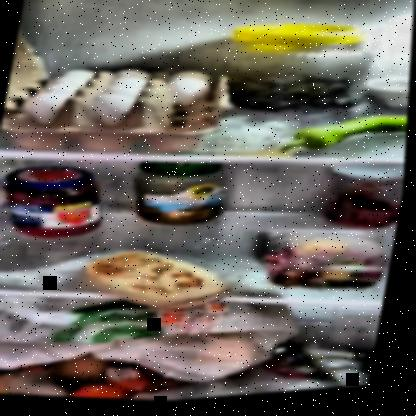eggs: (29, 58, 209, 143)
green_chillies: (285, 109, 409, 170)
olives: (231, 68, 369, 127)
tomato: (78, 378, 138, 404)
